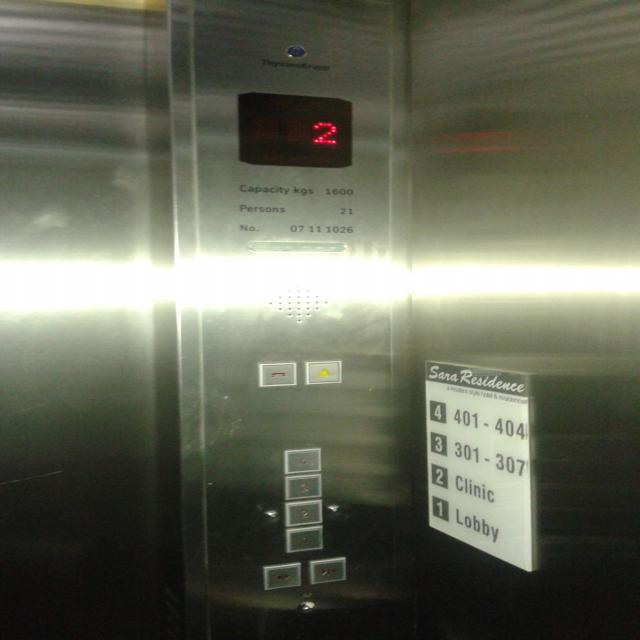1: (282, 525, 324, 553)
2: (282, 499, 324, 527)
3: (280, 472, 324, 500)
4: (280, 447, 324, 475)
alarm: (302, 360, 344, 384)
call: (256, 360, 299, 388)
close: (307, 557, 349, 585)
led: (235, 88, 357, 169)
open: (261, 562, 303, 590)
